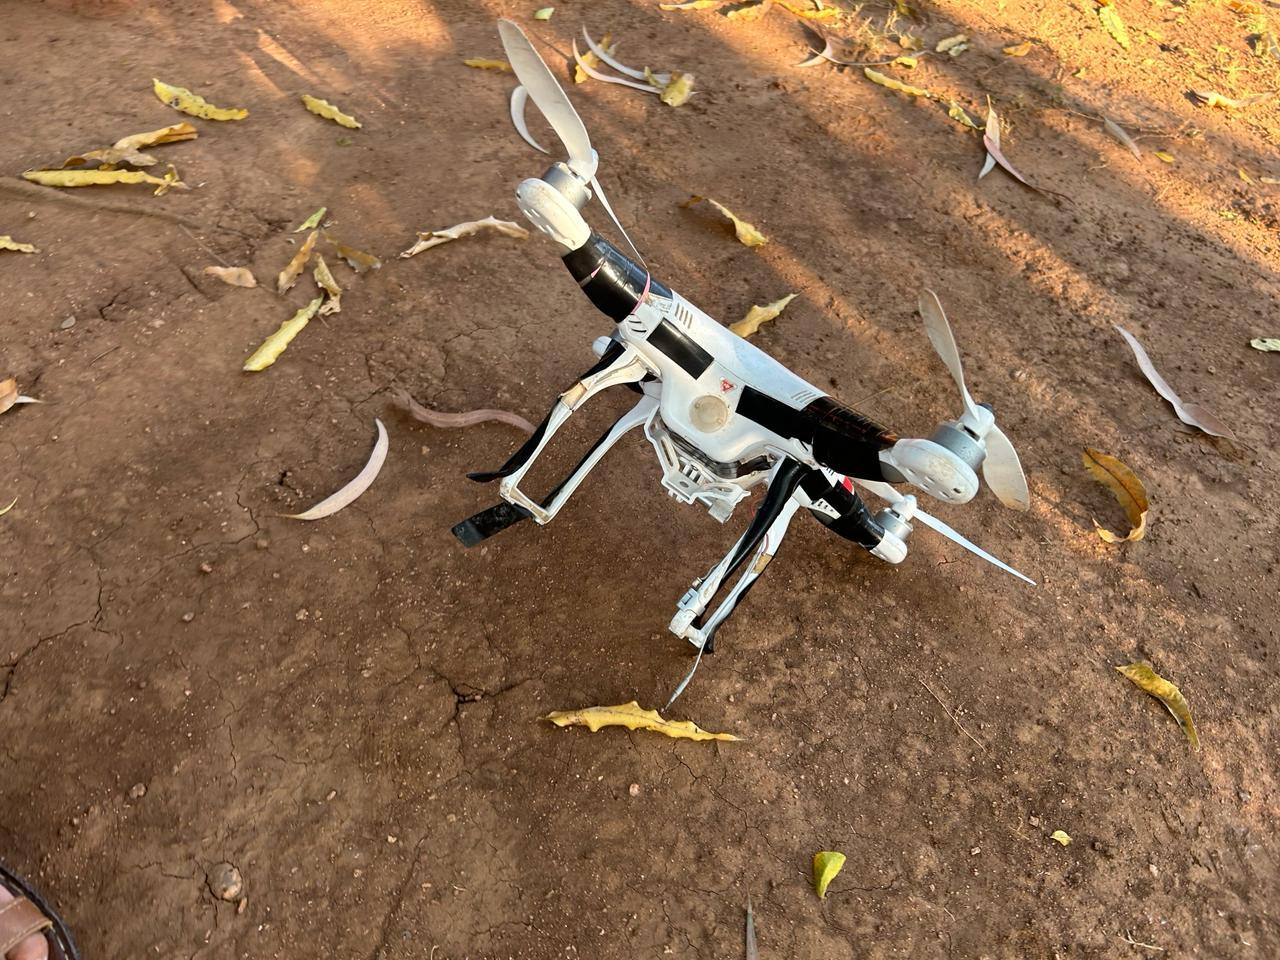drone: (276, 86, 1172, 745)
